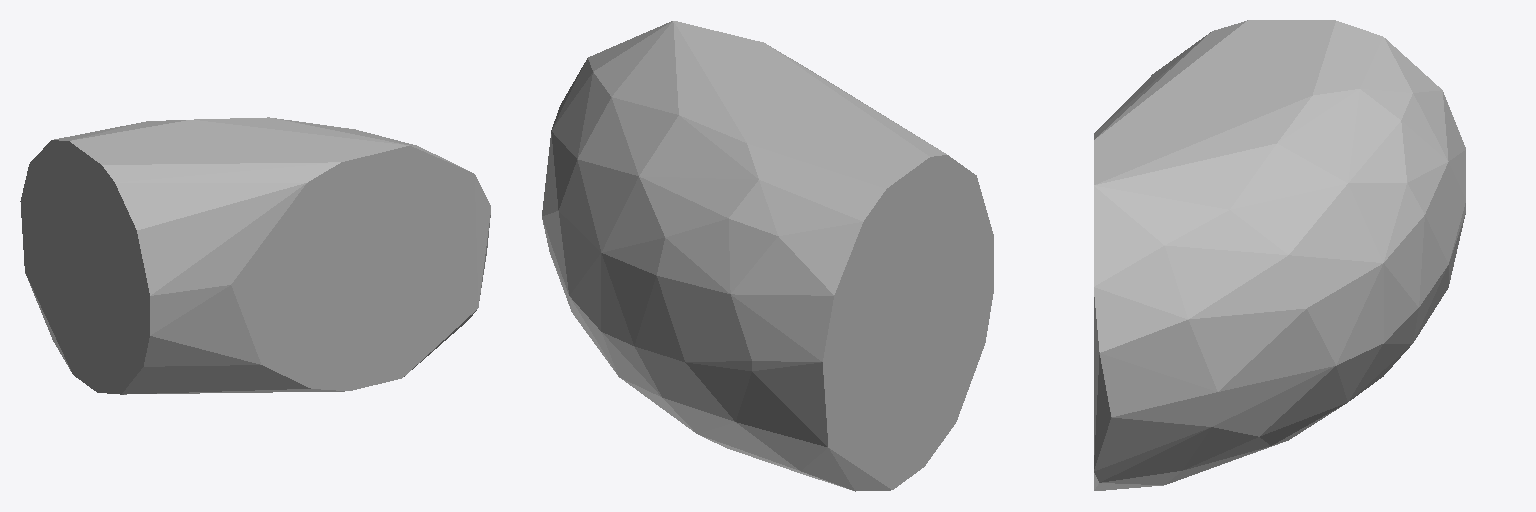
The robot description file, URDF, robot "root":
<?xml version='1.0' encoding='utf-8'?>
<robot name="root">
  <link name="link_001">
    <visual>
      <origin xyz="0 0 0" rpy="0 0 0" />
      <geometry>
        <mesh filename="f40a0a35a0622e742cabac56fa4c93999186f0e81610af96a7a3759b39a931c1_scale_196.stl" scale="1.0000E+00 1.0000E+00 1.0000E+00" />
      </geometry>
      <material name="">
        <color rgba="7.50E-01 7.50E-01 7.50E-01 1" />
      </material>
    </visual>
    <collision>
      <origin xyz="0 0 0" rpy="0 0 0" />
      <geometry>
        <mesh filename="f40a0a35a0622e742cabac56fa4c93999186f0e81610af96a7a3759b39a931c1_scale_196.stl" scale="1.0000E+00 1.0000E+00 1.0000E+00" />
      </geometry>
    </collision>
  </link>
</robot>

--- What the picture shows (computed from the rendered views, not written in the file) ---
3 views of the same robot in one strip: view 1: azimuth 30°, elevation 25°; view 2: azimuth 150°, elevation 25°; view 3: azimuth 270°, elevation 25° (orthographic).
Robot: root — 1 links, 0 joints (none); root link link_001; default pose: every joint at zero.
Links seen in each view (by area): view 1: link_001; view 2: link_001; view 3: link_001.
Boxes of the visible links, x1,y1,x2,y2 form: link_001: (20,117,490,394); link_001: (542,21,993,491); link_001: (1094,20,1465,490).
Size in the robot's own frame: 0.12 by 0.0859 by 0.0791 metres.
Meshes: 1 distinct files referenced, 1 mesh visuals loaded (1 binary STL).
